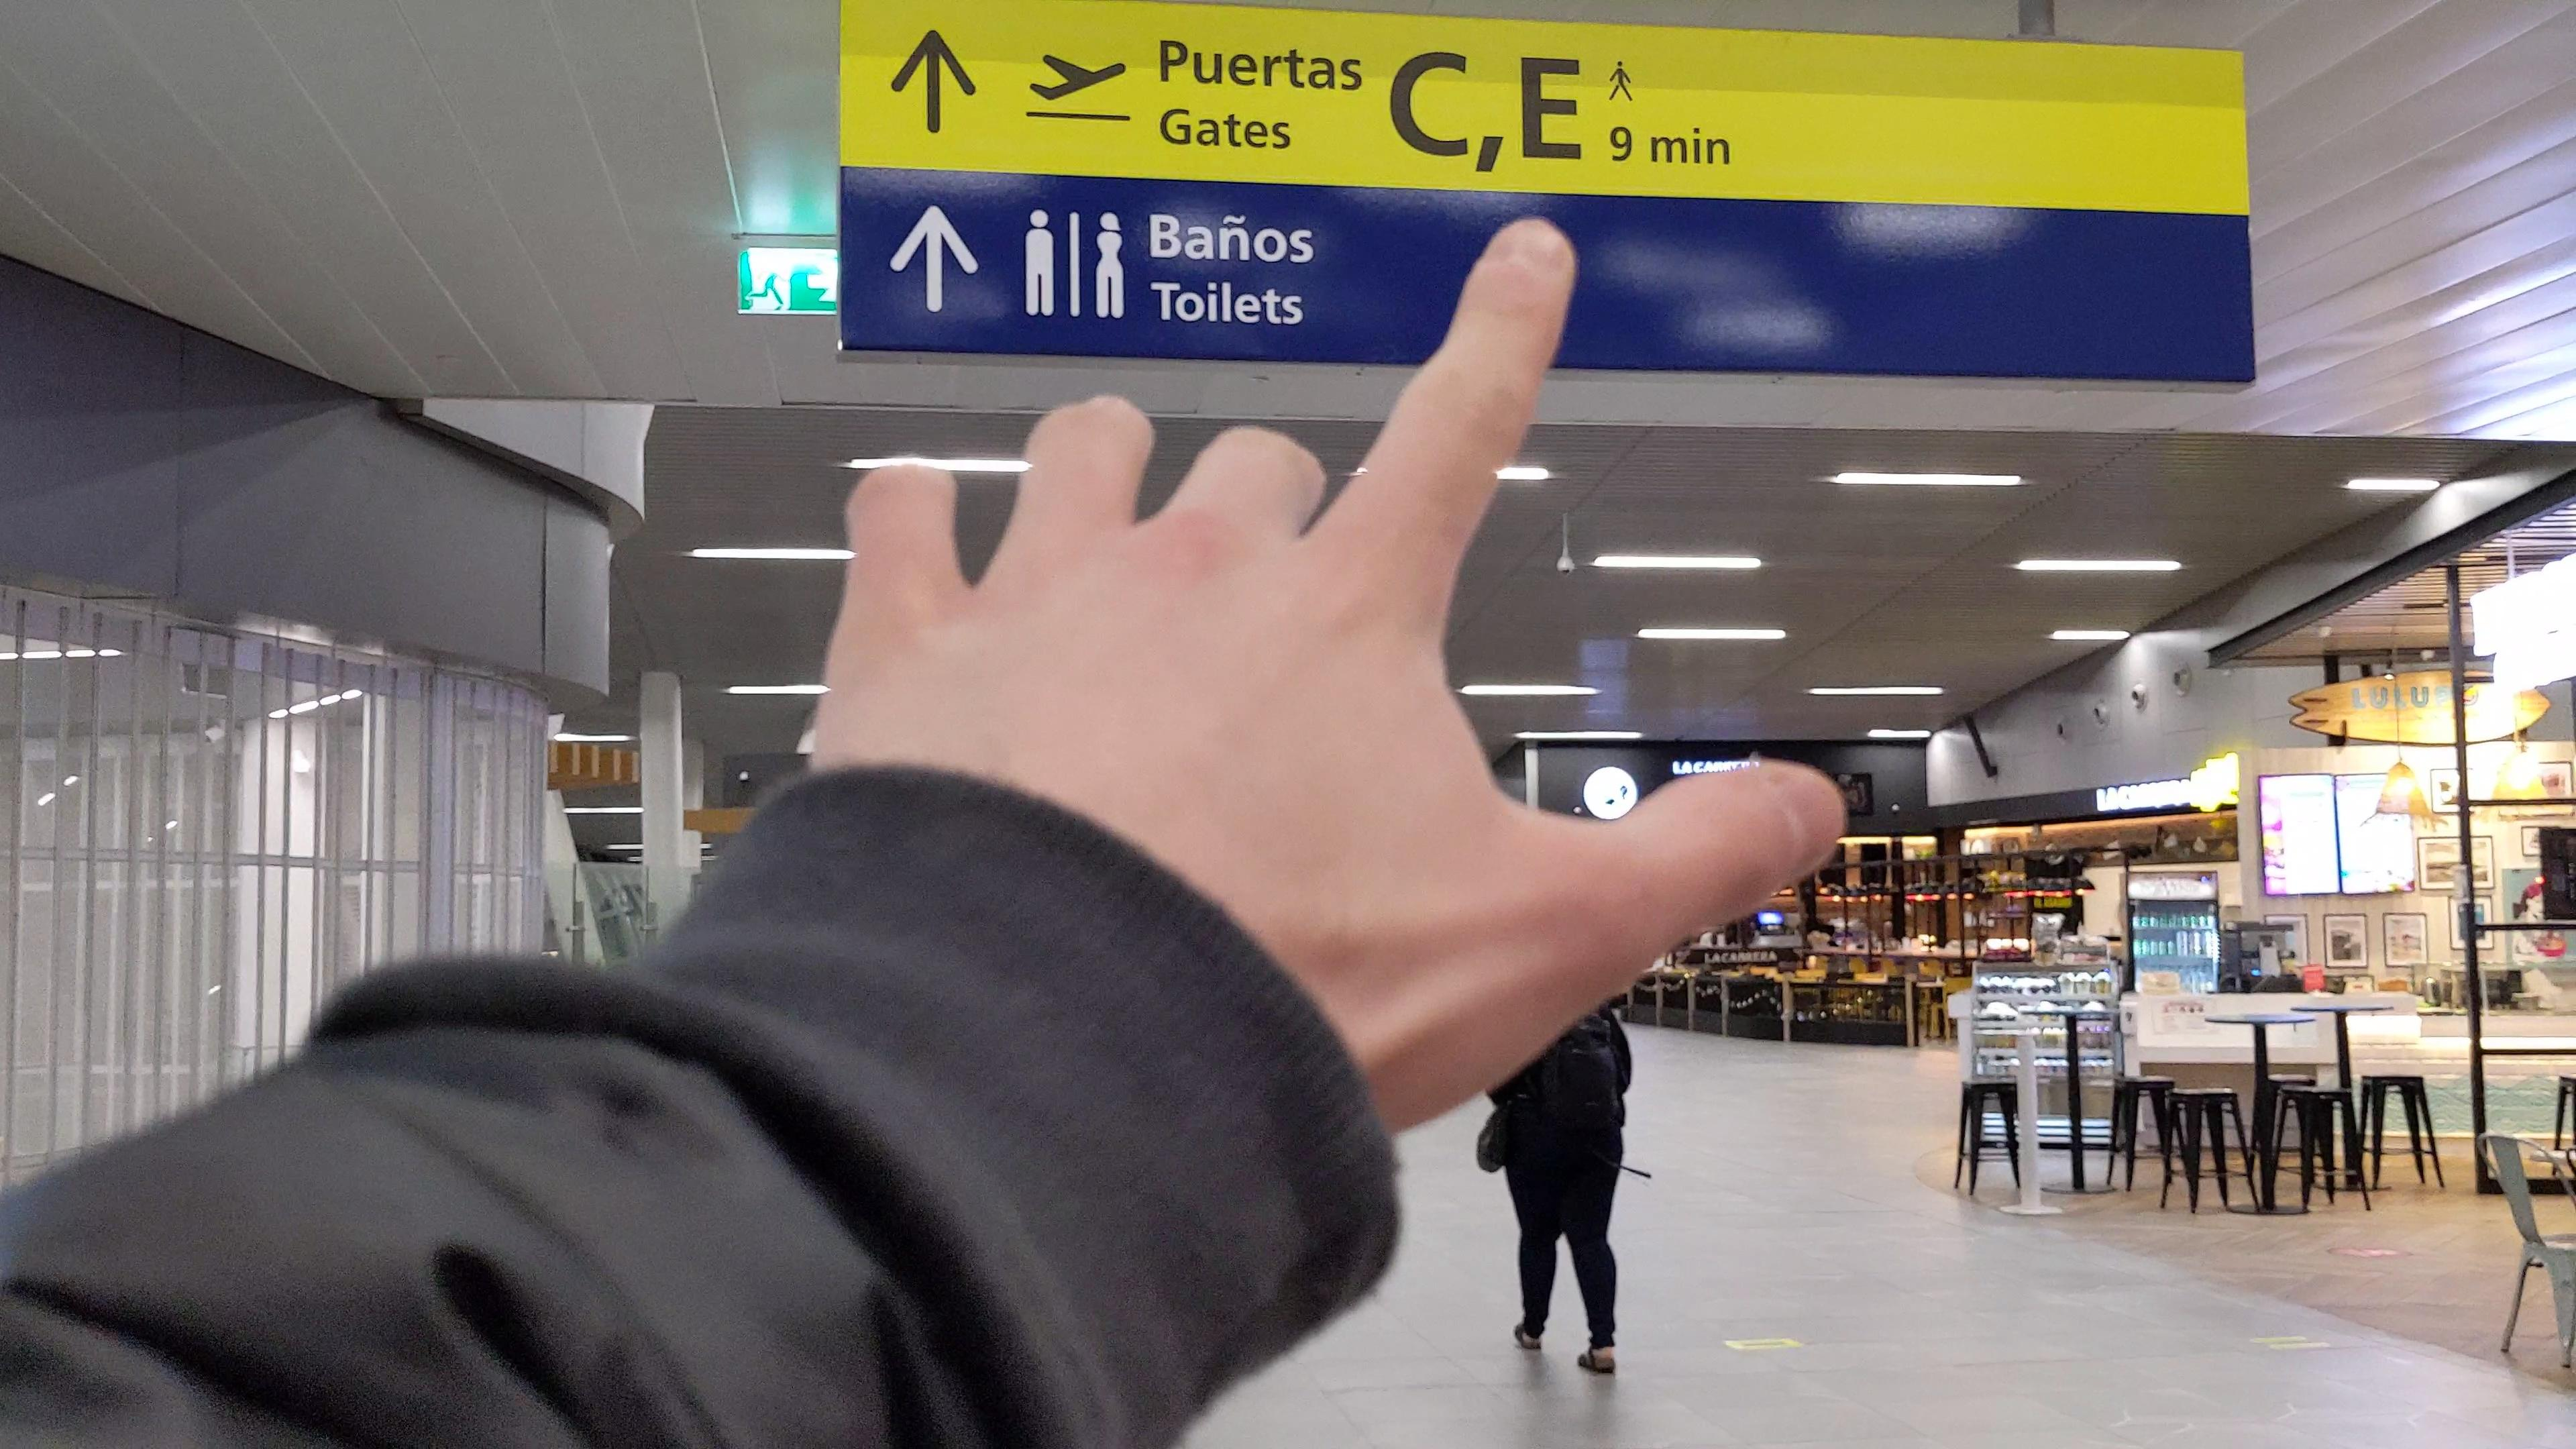airplane symbol: (1019, 51, 1138, 104)
bathrooms: (1021, 207, 1131, 318)
emergency exit: (745, 260, 793, 311)
emergency right arrow: (805, 258, 842, 306)
thin up arrow: (890, 203, 985, 317), (888, 25, 980, 136)
